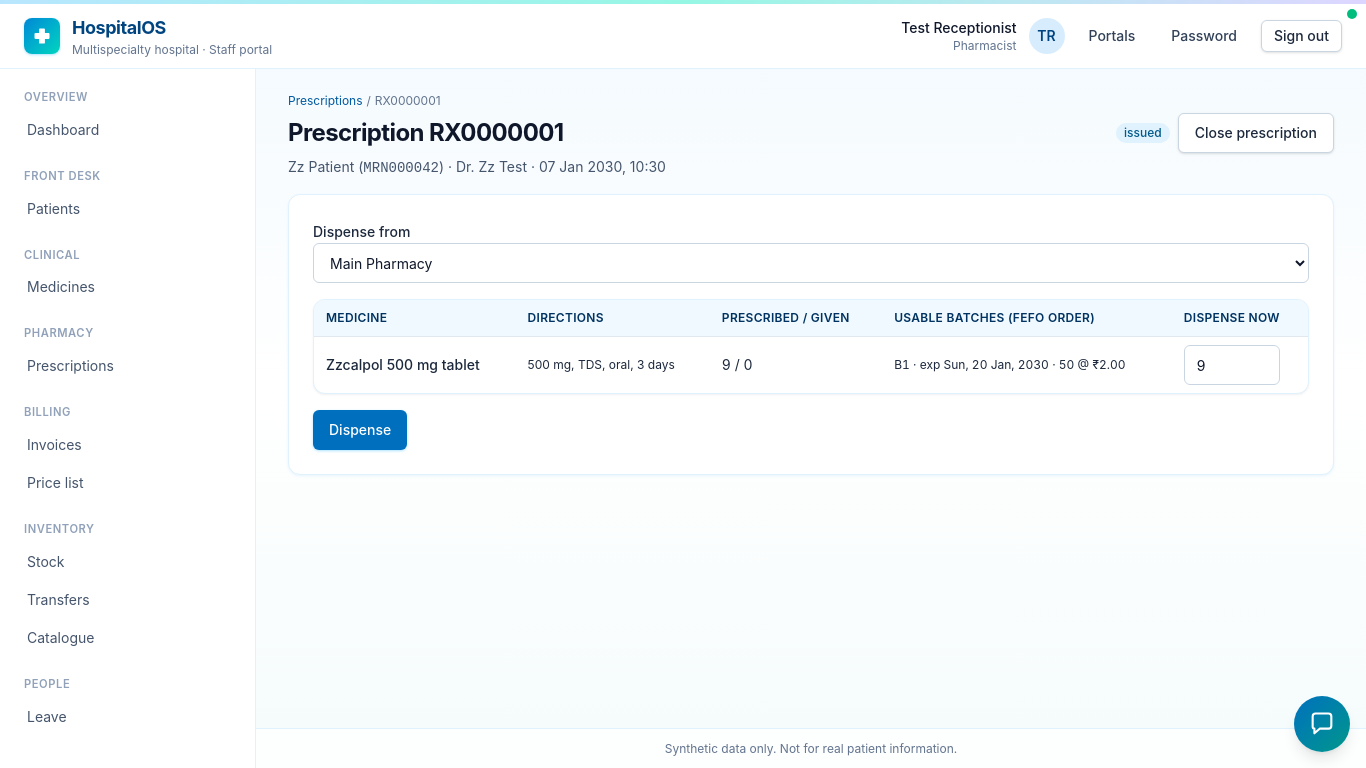
Test case: dispensing › asks the pharmacist to acknowledge near-expiry stock, then dispenses
This screenshot has width=1366, height=768.
Click the button "Dispense" at x=360, y=430, box [313, 410, 407, 450]
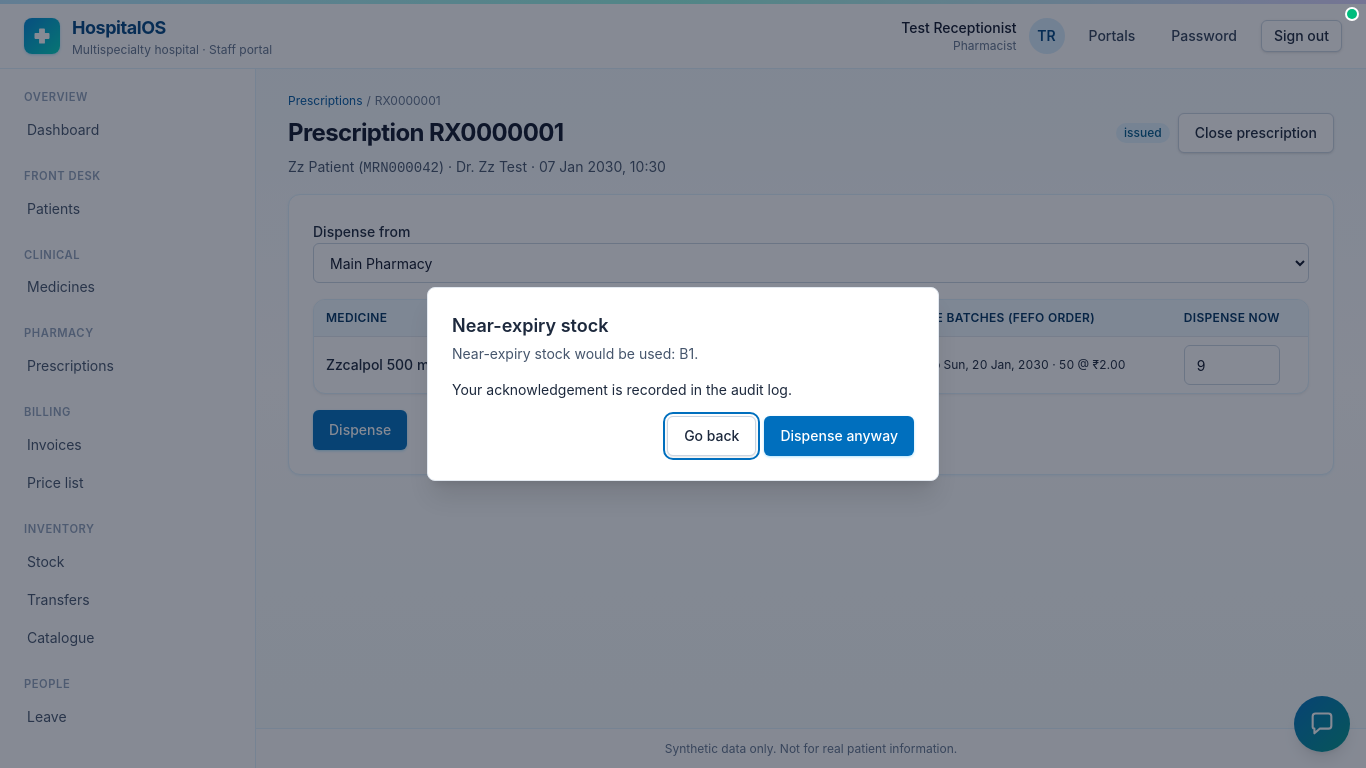
Click the button "Dispense anyway" at x=839, y=436, box [764, 416, 914, 456]
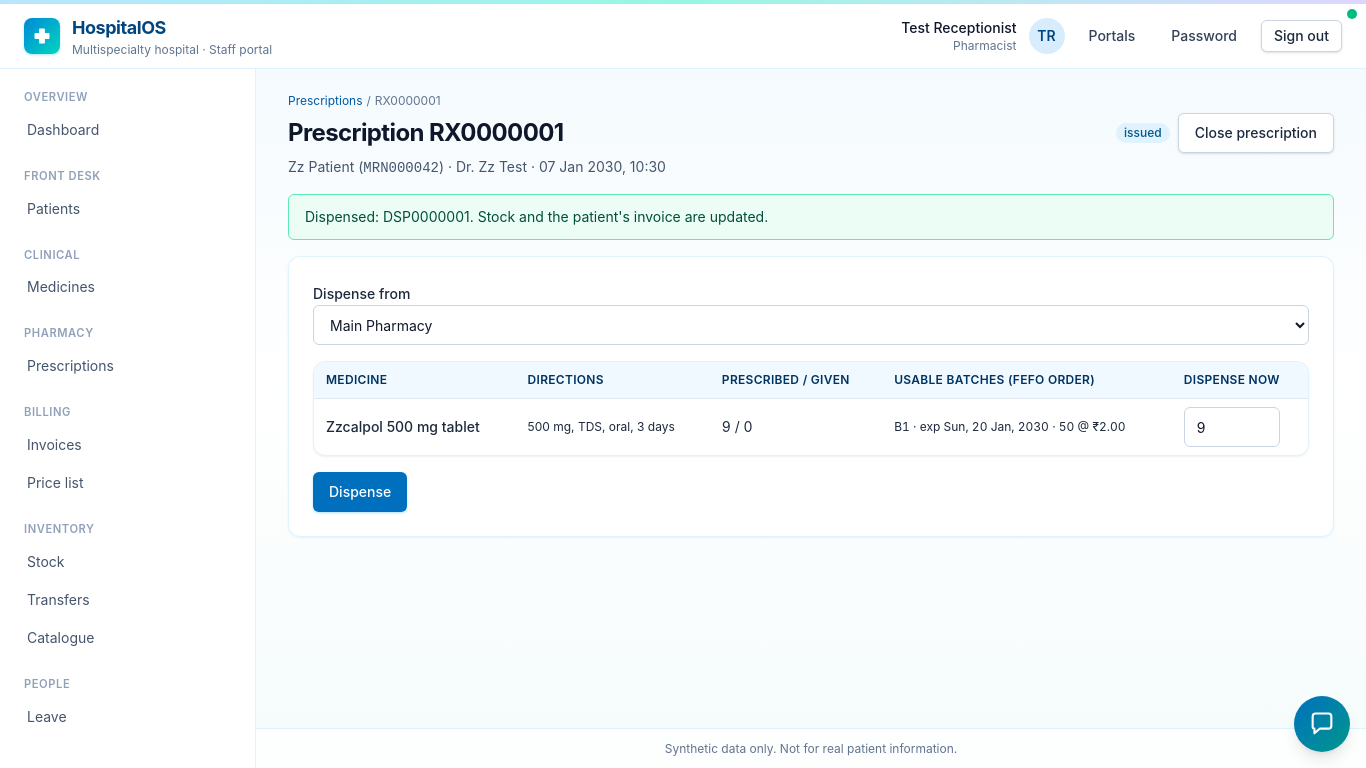
Expected: the text "Dispensed: DSP0000001. Stock and the patient's invoice are updated." is shown, [288, 194, 1334, 240]
